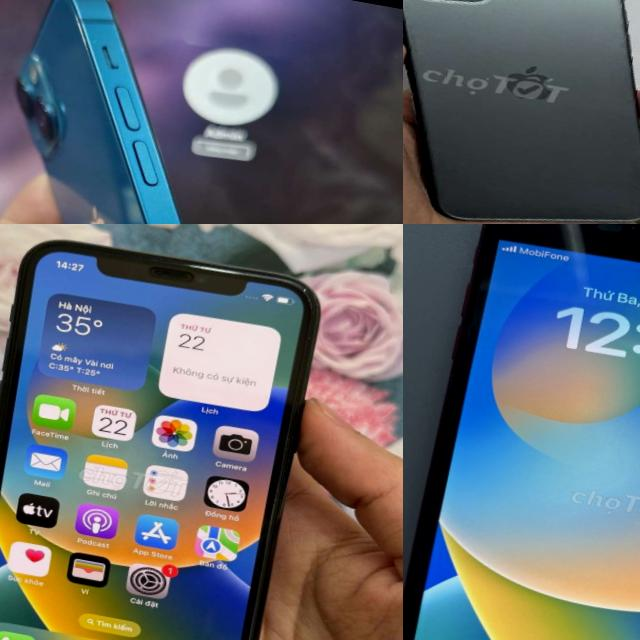gen_11: (0, 224, 340, 640), (403, 0, 640, 221)
gen_12_13: (0, 0, 331, 224)
gen_7_8: (403, 224, 640, 640)
scratch: (512, 224, 640, 260), (294, 278, 320, 304)
